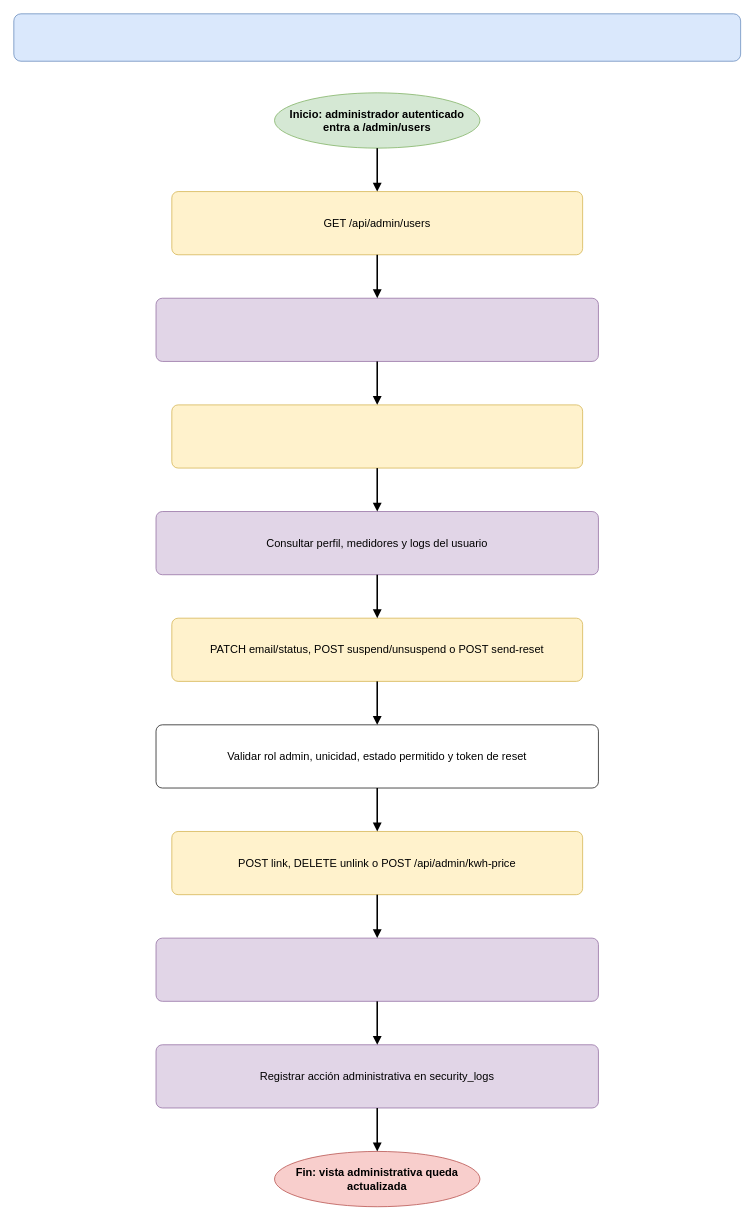
This 754x1221 diagram has some shape labels left out. Here are the shapes that lost their labels. From the top down, the box of each, then its label:
(13, 13, 741, 61): Flujo 05: Administración de usuarios, medidores y precio kWh
(155, 297, 598, 361): Listar usuarios regulares con paginación, búsqueda y estado
(171, 404, 583, 468): GET /api/admin/users/:id y GET /api/admin/users/:id/logs
(155, 937, 598, 1001): Actualizar energy_cards, settings y kwh_price_history
